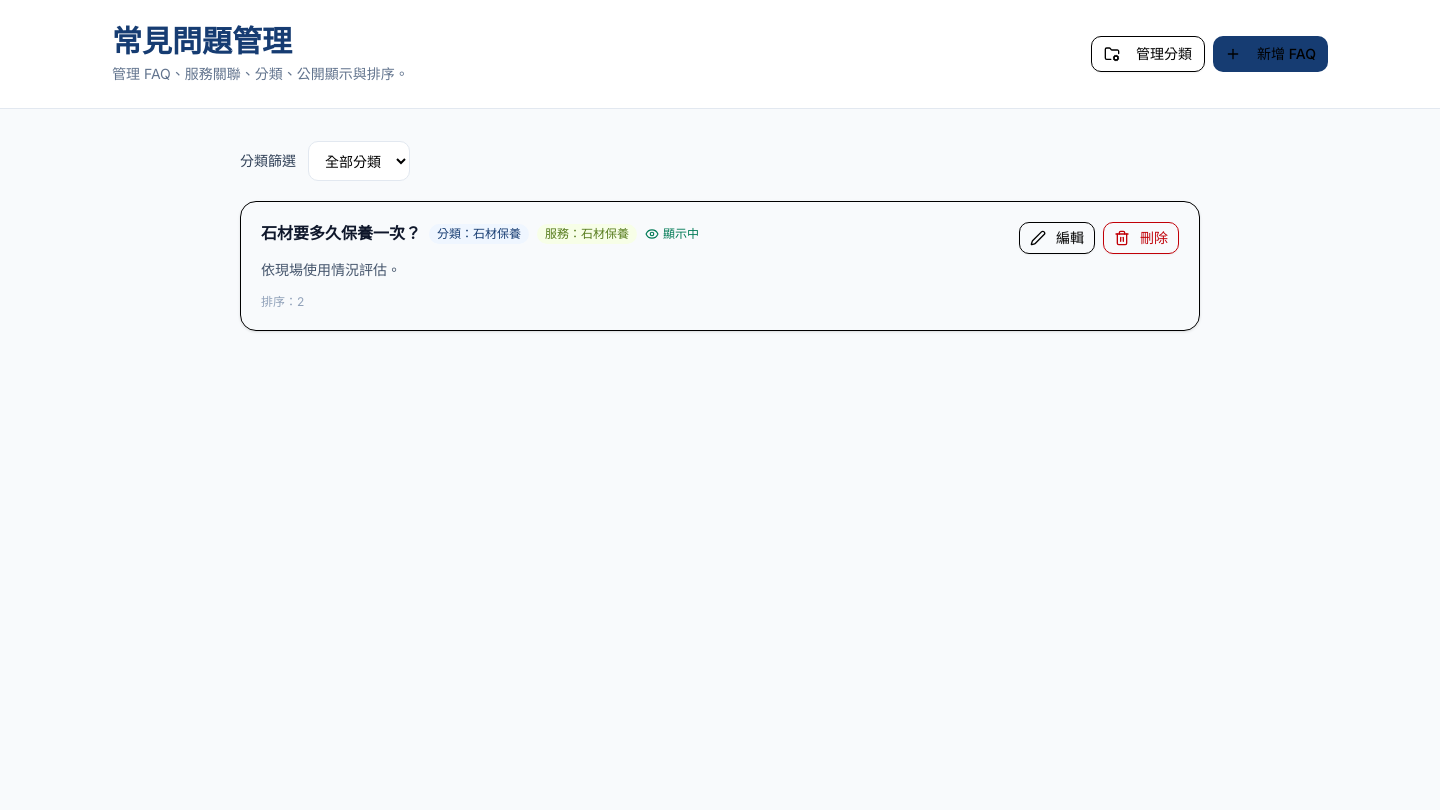
Test case: CMSFAQs 服務關聯管理 › 管理員可修改既有 FAQ 的內容、服務、排序與顯示狀態並收到成功回饋
Click the button "編輯" at {"x": 1057, "y": 238}, box [1019,222,1095,254]
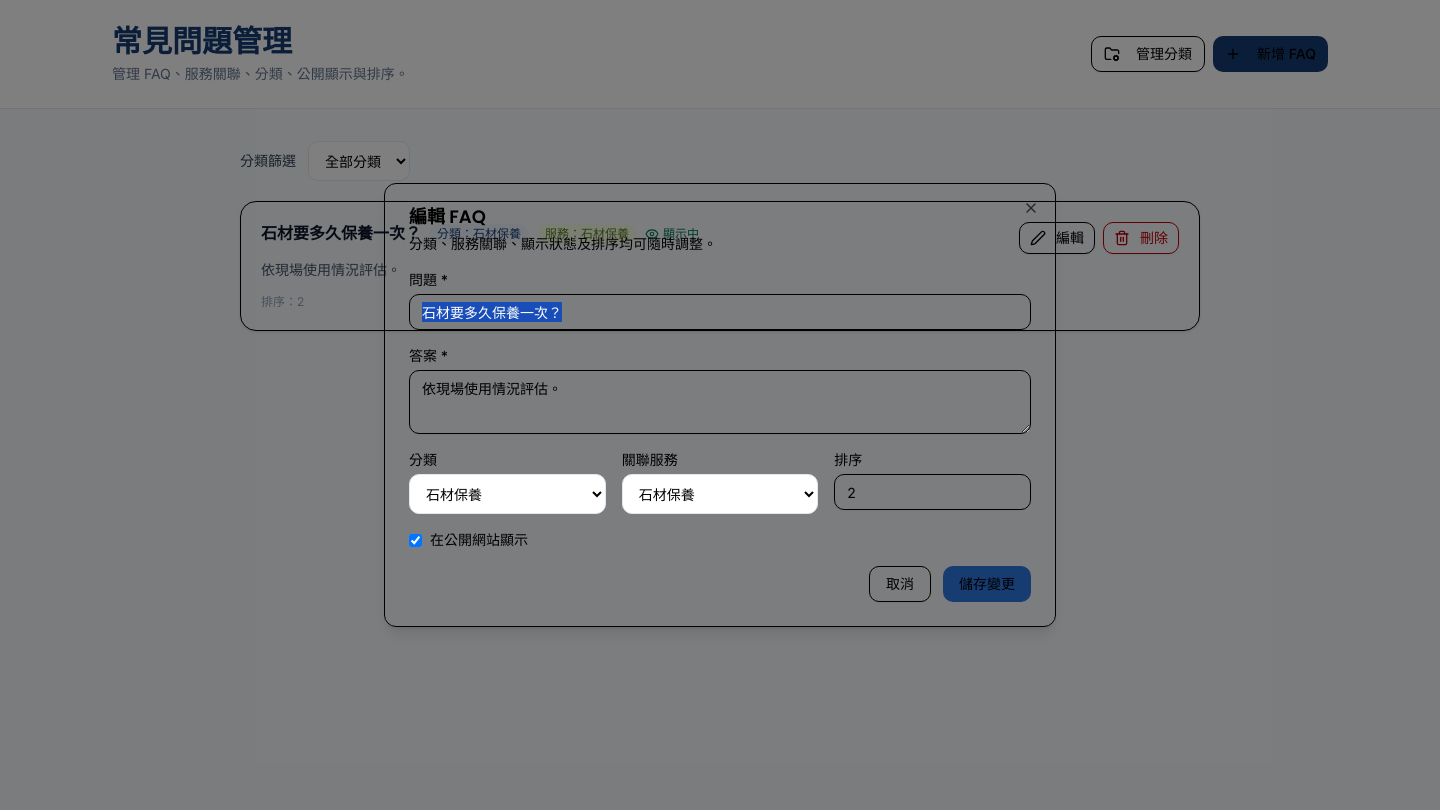
Replace the text in the field labelled "問題 *" with "更新後的石材問題" at {"x": 720, "y": 312}, box [409,294,1031,330]
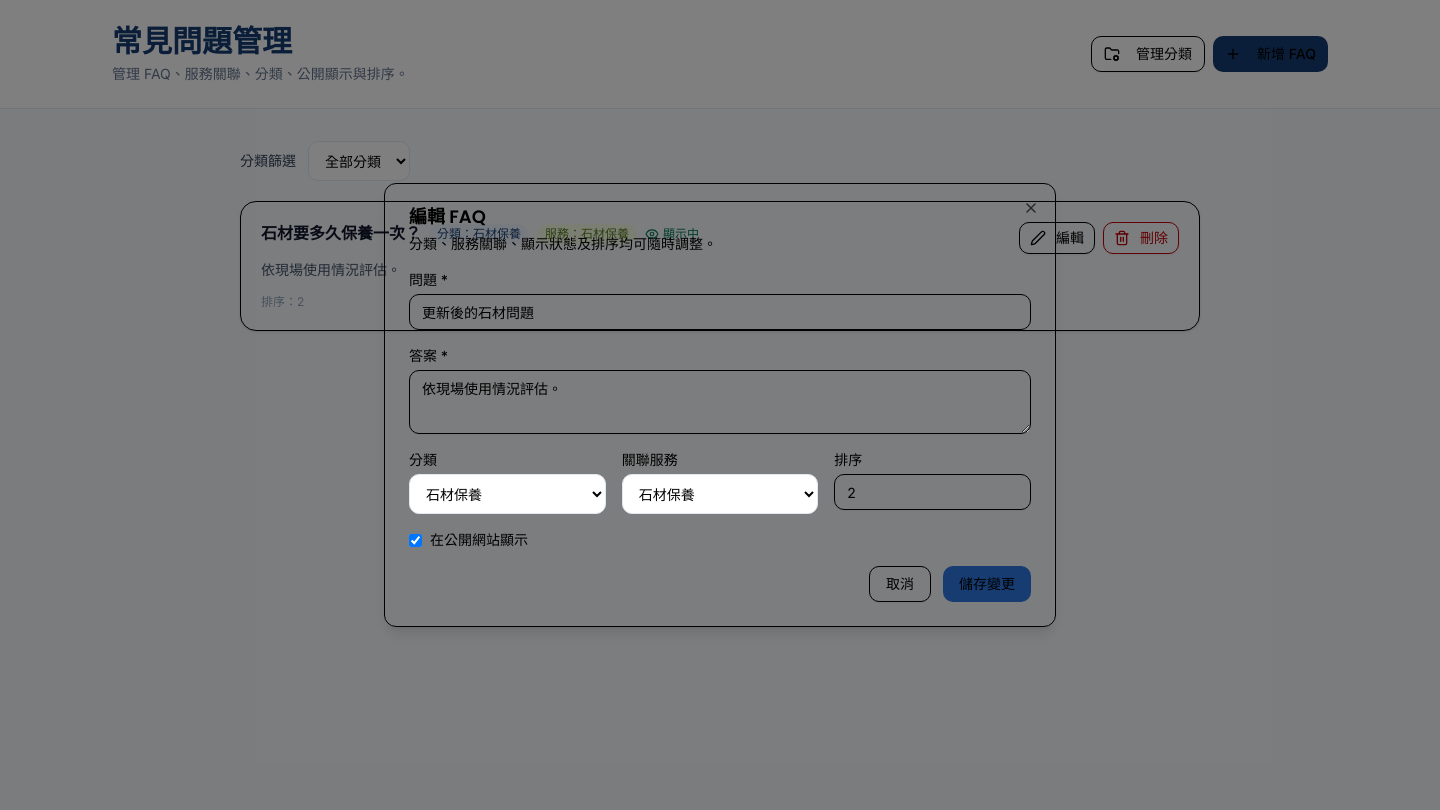
Replace the text in the text box labelled "答案 *" with "更新後的石材答案" at {"x": 720, "y": 402}, box [409,370,1031,434]
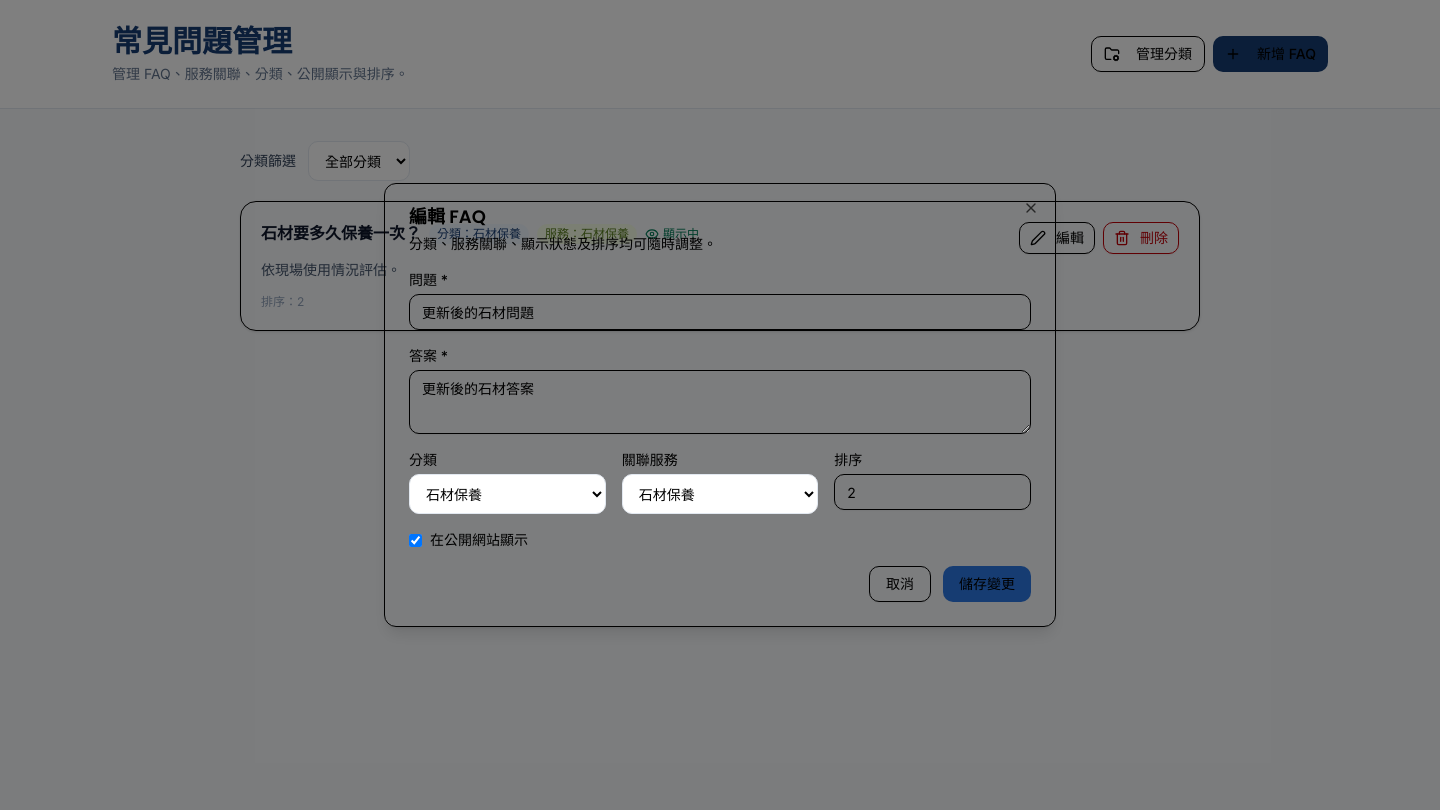
Replace the text in the number field labelled "排序" with "8" at {"x": 933, "y": 492}, box [834,474,1031,510]
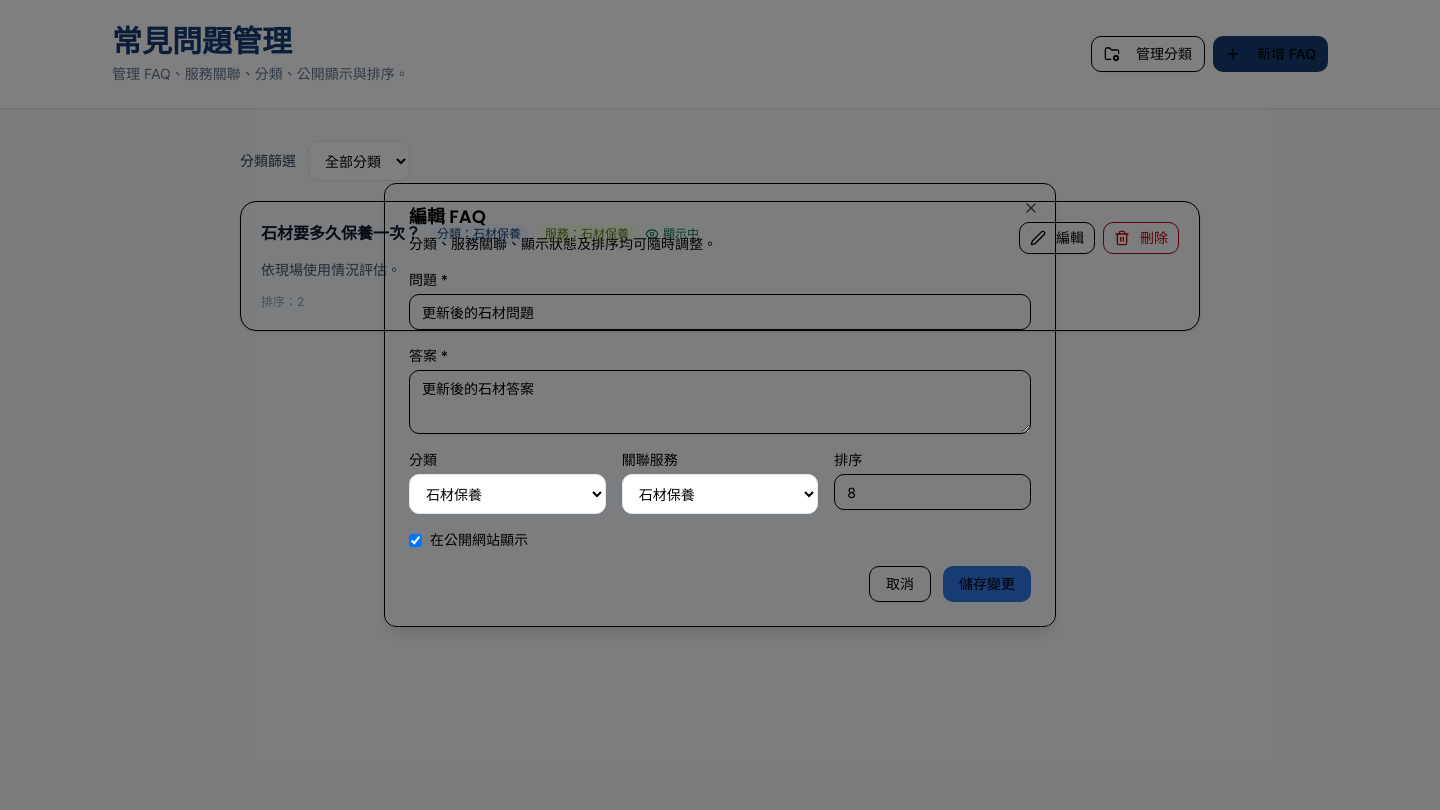
Click the checkbox labelled "在公開網站顯示" at {"x": 416, "y": 540}, box [409,534,422,546]
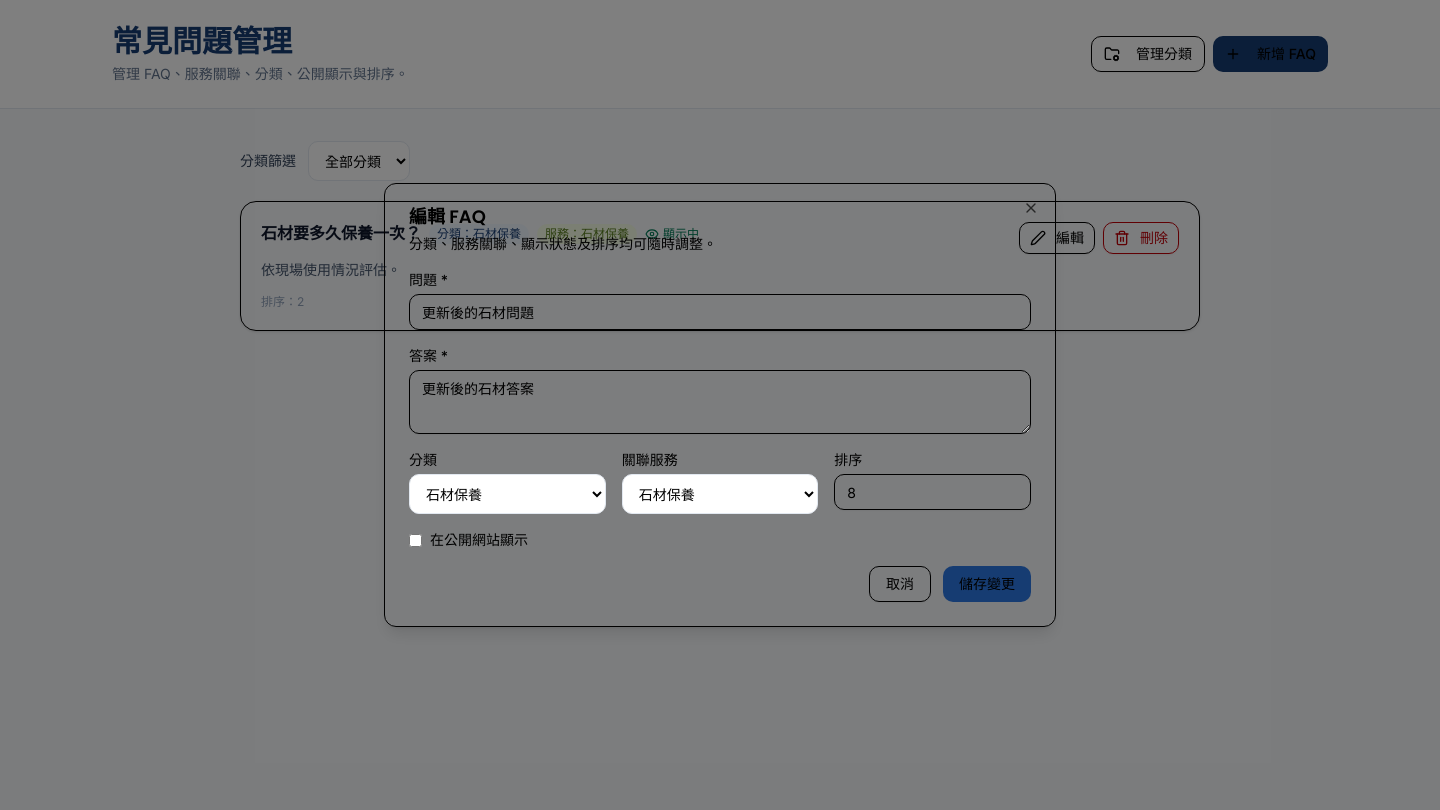
Click the button "儲存變更" at {"x": 987, "y": 584}, box [943,566,1031,602]
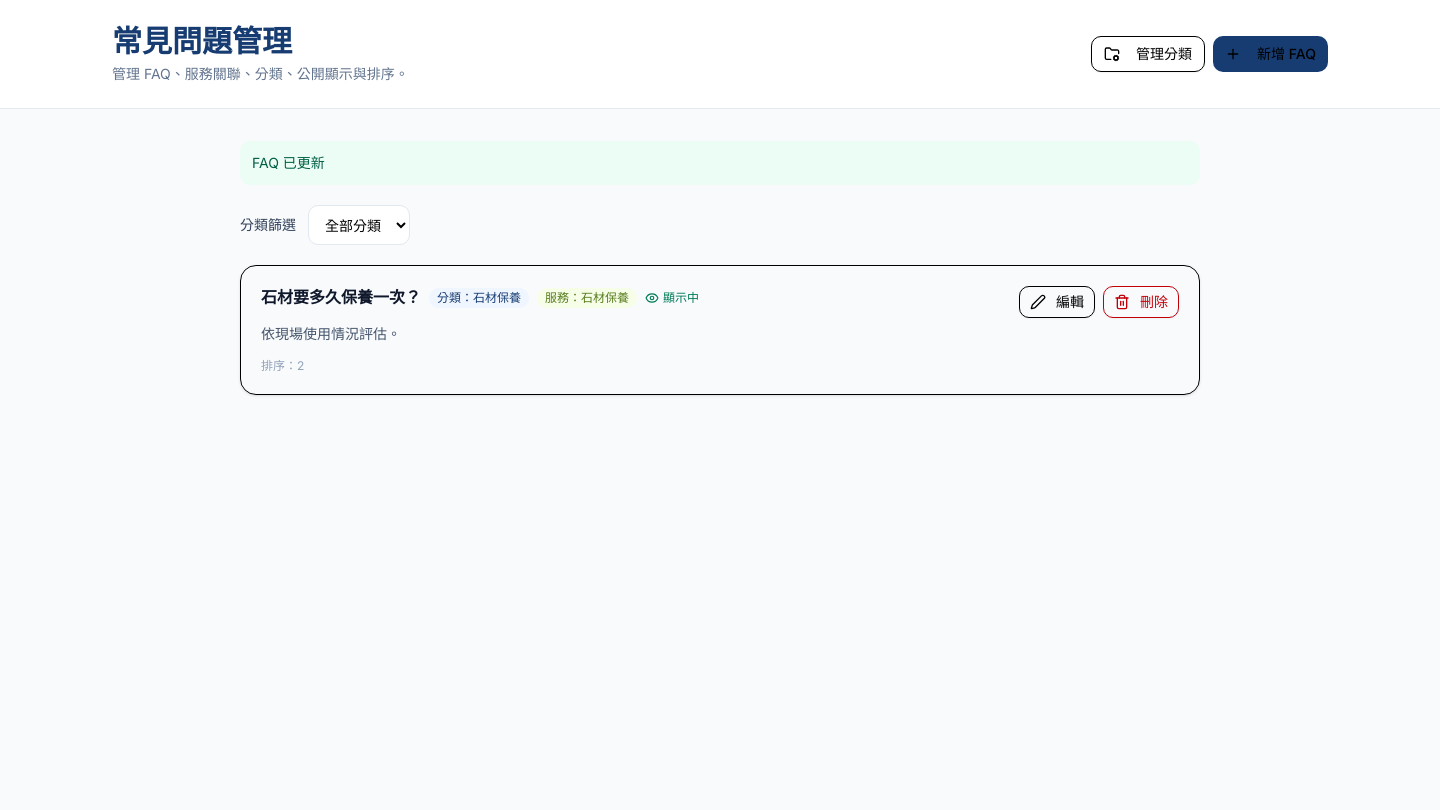
Now the message reads "FAQ 已更新", box [252,154,325,171]
